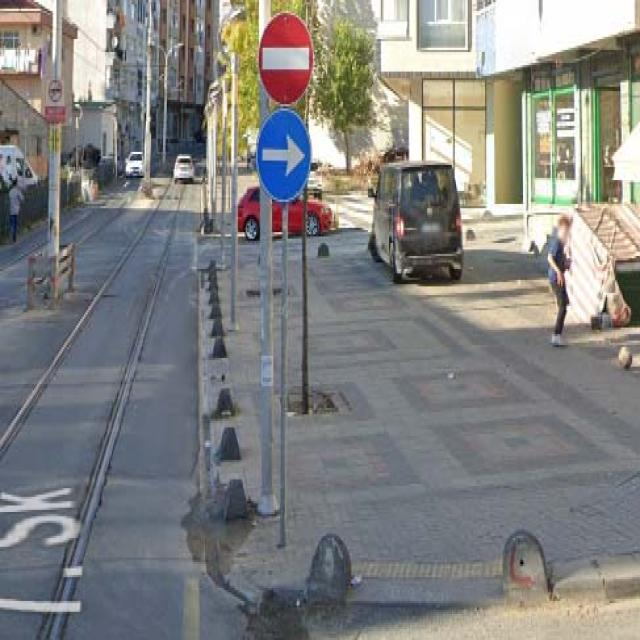girisyok: (259, 13, 313, 104)
sag: (258, 108, 310, 202)
